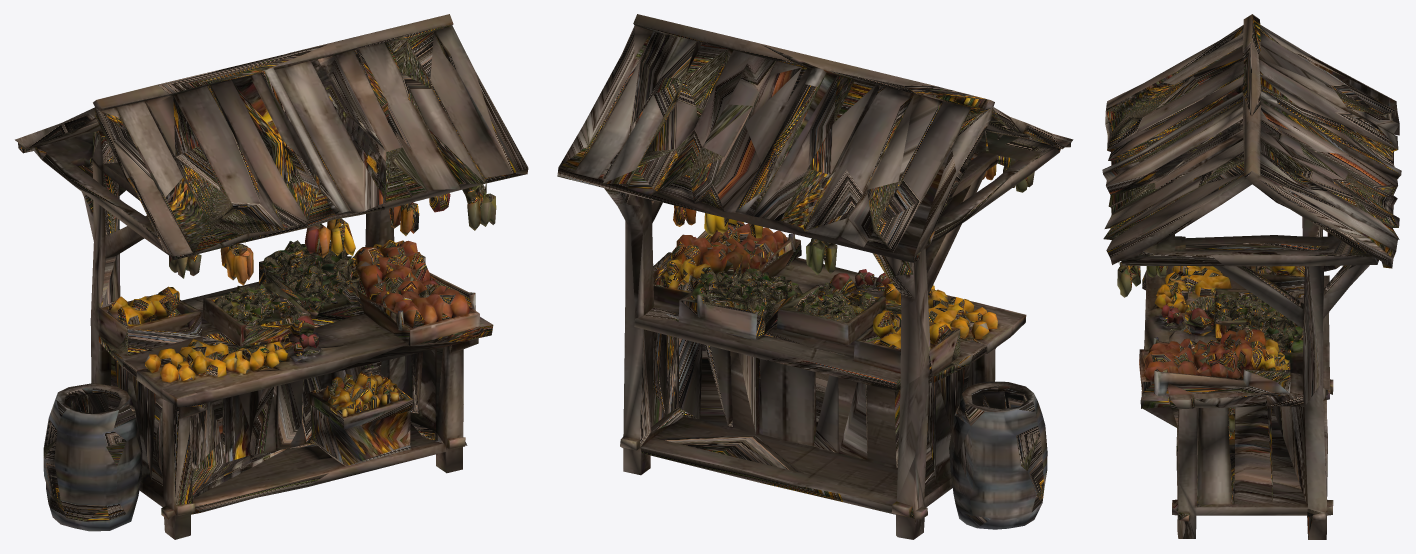
The model's file is Rustic_Market_Stall.glb.
3 renders of one model, left to right at view 1: azimuth 30°, elevation 25°; view 2: azimuth 150°, elevation 25°; view 3: azimuth 270°, elevation 25°, orthographic. The views are drawn at different scales.
Parts seen in each view (by area): view 1: Rustic_Market_Stall; view 2: Rustic_Market_Stall; view 3: Rustic_Market_Stall.
Part boxes in pixels (box(x1,y1,x2,y2)): Rustic_Market_Stall: box(15, 14, 528, 539); Rustic_Market_Stall: box(557, 14, 1073, 539); Rustic_Market_Stall: box(1102, 14, 1401, 539).
Size of the model in its own units: 1.9 by 1.9 by 1.35.
Materials: 1 (1 with a texture image).
